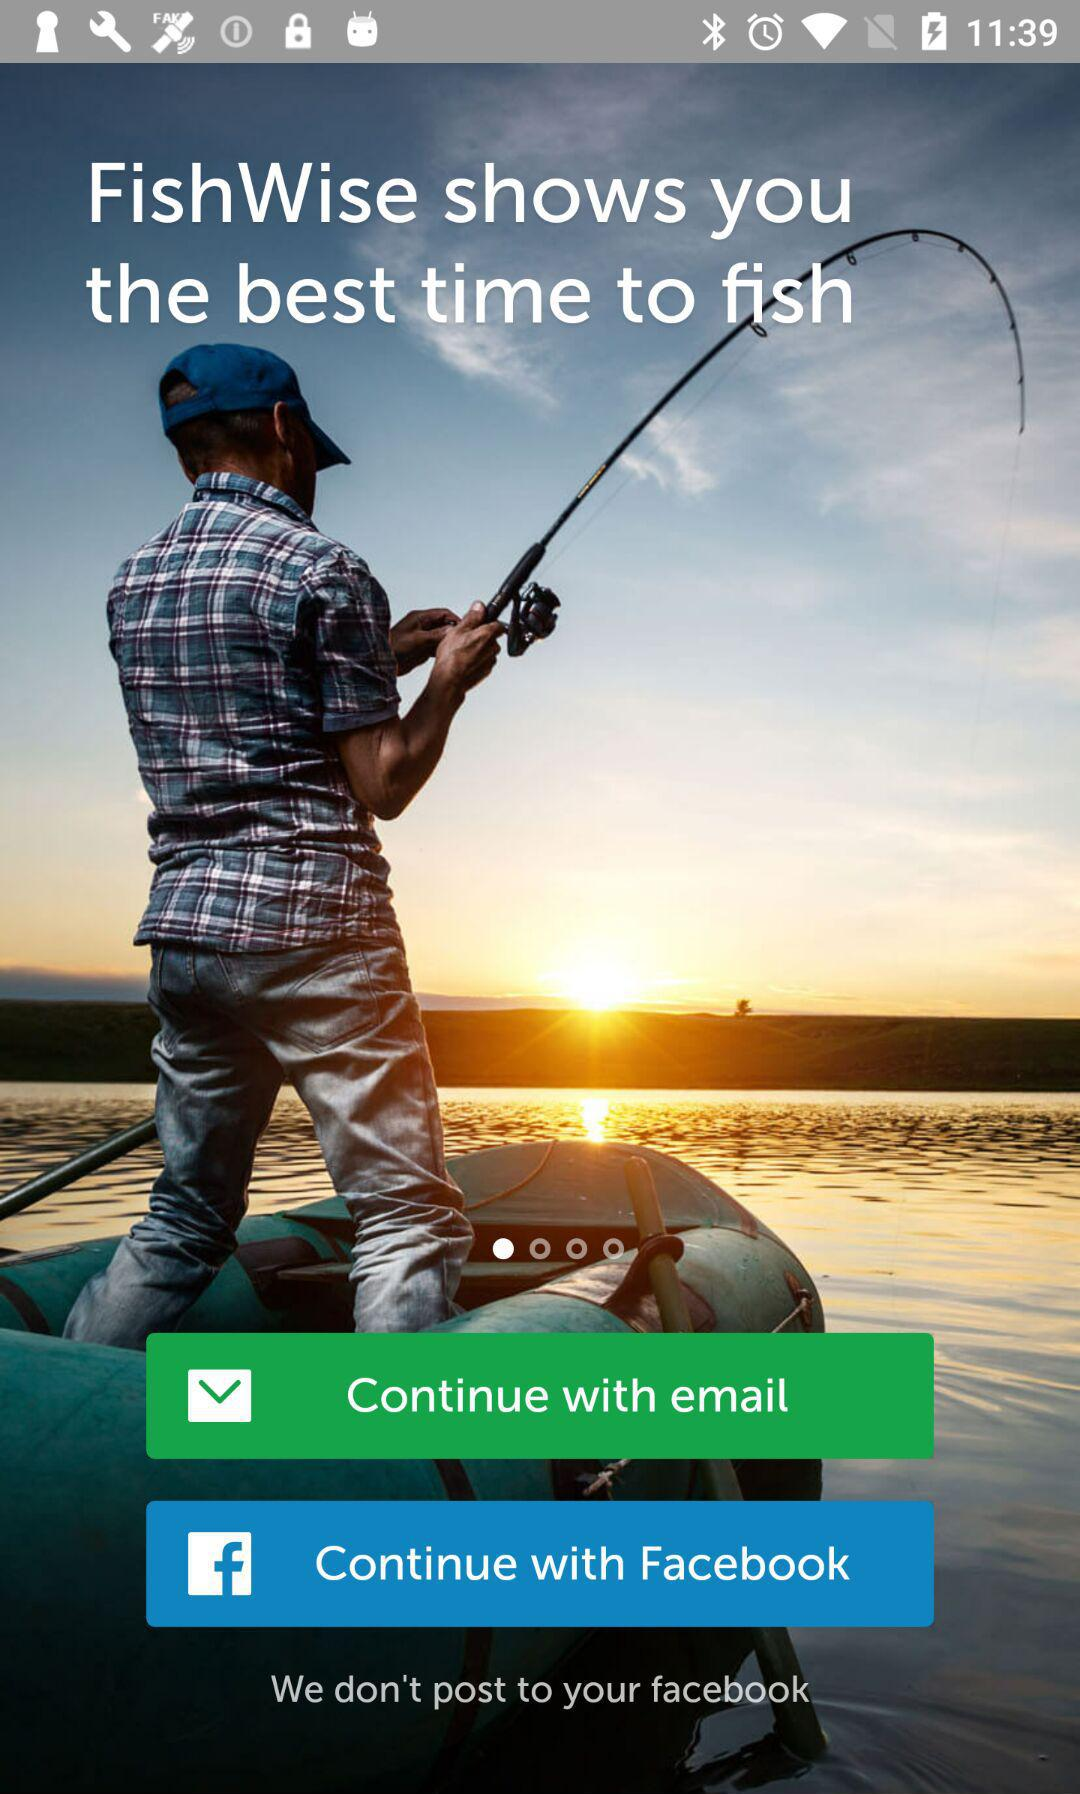BackgroundImage: (1, 64, 1080, 1794)
PageIndicator: (491, 1237, 626, 1262)
Text: (85, 161, 855, 327), (272, 1674, 810, 1712)
TextButton: (146, 1333, 935, 1460), (146, 1501, 935, 1627)
UpperTaskBar: (1, 1, 1080, 64)
